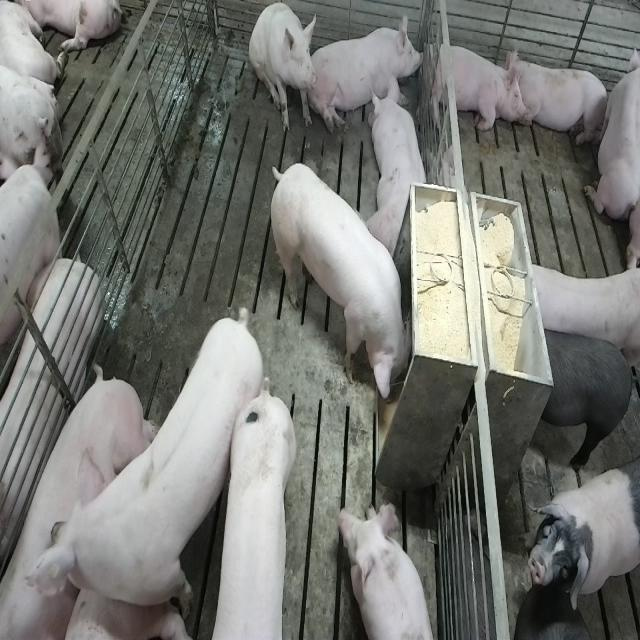Feeding: (266, 162, 410, 402)
Lateral_lying: (0, 370, 158, 639), (0, 258, 103, 618)
Sitting: (249, 2, 319, 135)
Standing: (31, 300, 270, 634), (219, 376, 300, 636), (523, 454, 637, 608), (531, 327, 635, 472), (0, 146, 58, 384), (519, 257, 637, 367)
Sternal_lying: (338, 498, 436, 640), (313, 10, 423, 136), (368, 74, 431, 256), (509, 51, 611, 150), (584, 36, 637, 224), (425, 36, 522, 134)
